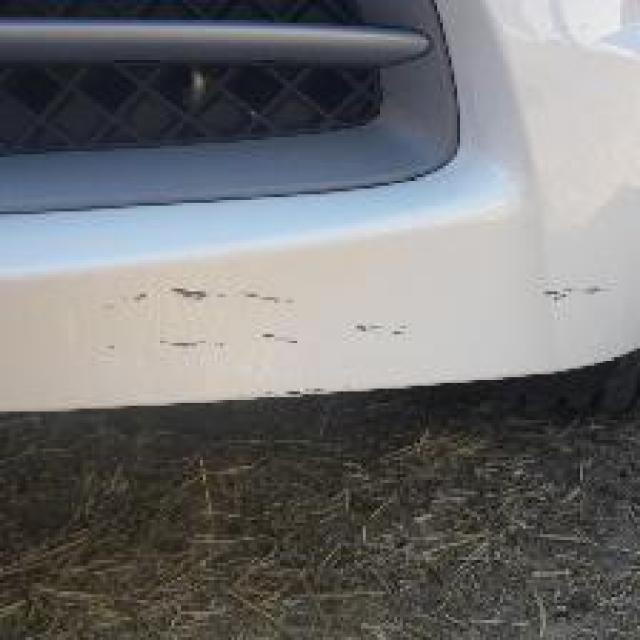damaged: (88, 274, 638, 406)
